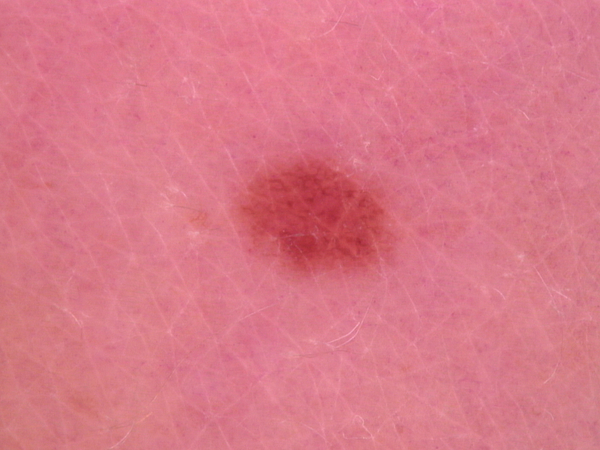Detected Lesion: (231, 156, 404, 284)
